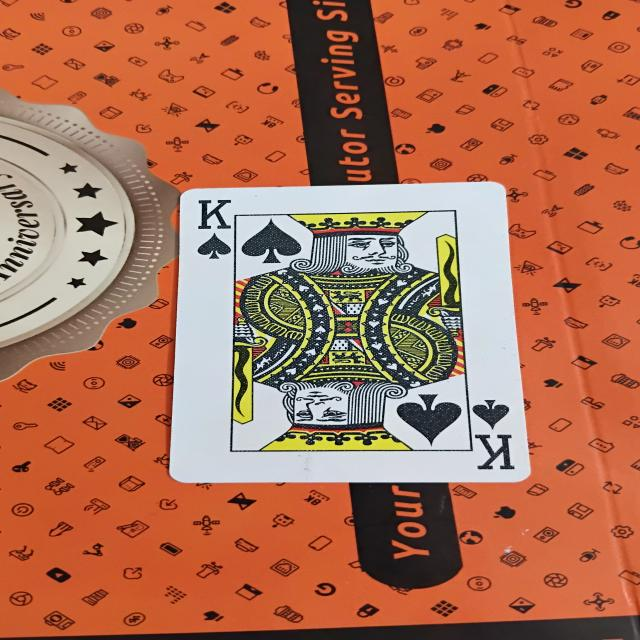KS: (166, 177, 524, 491)
